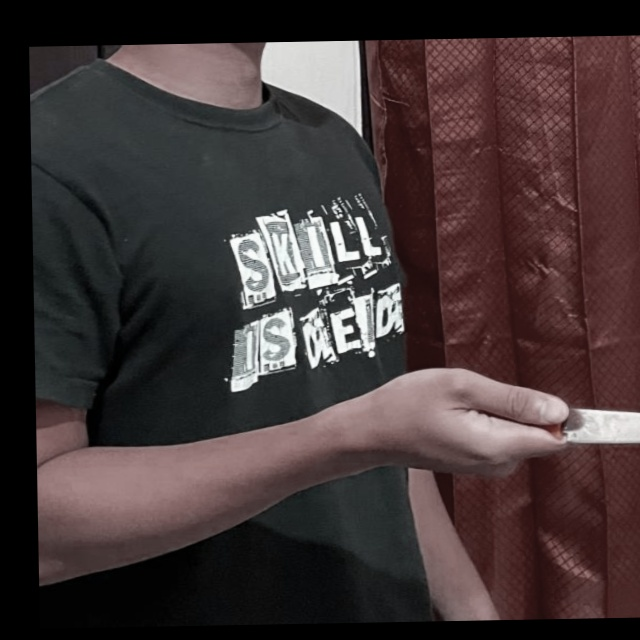Sharp-Object: (469, 400, 640, 448)
